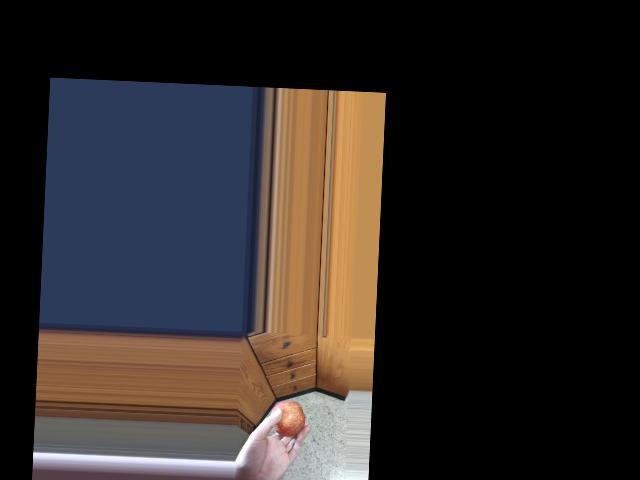apple: (264, 395, 308, 443)
